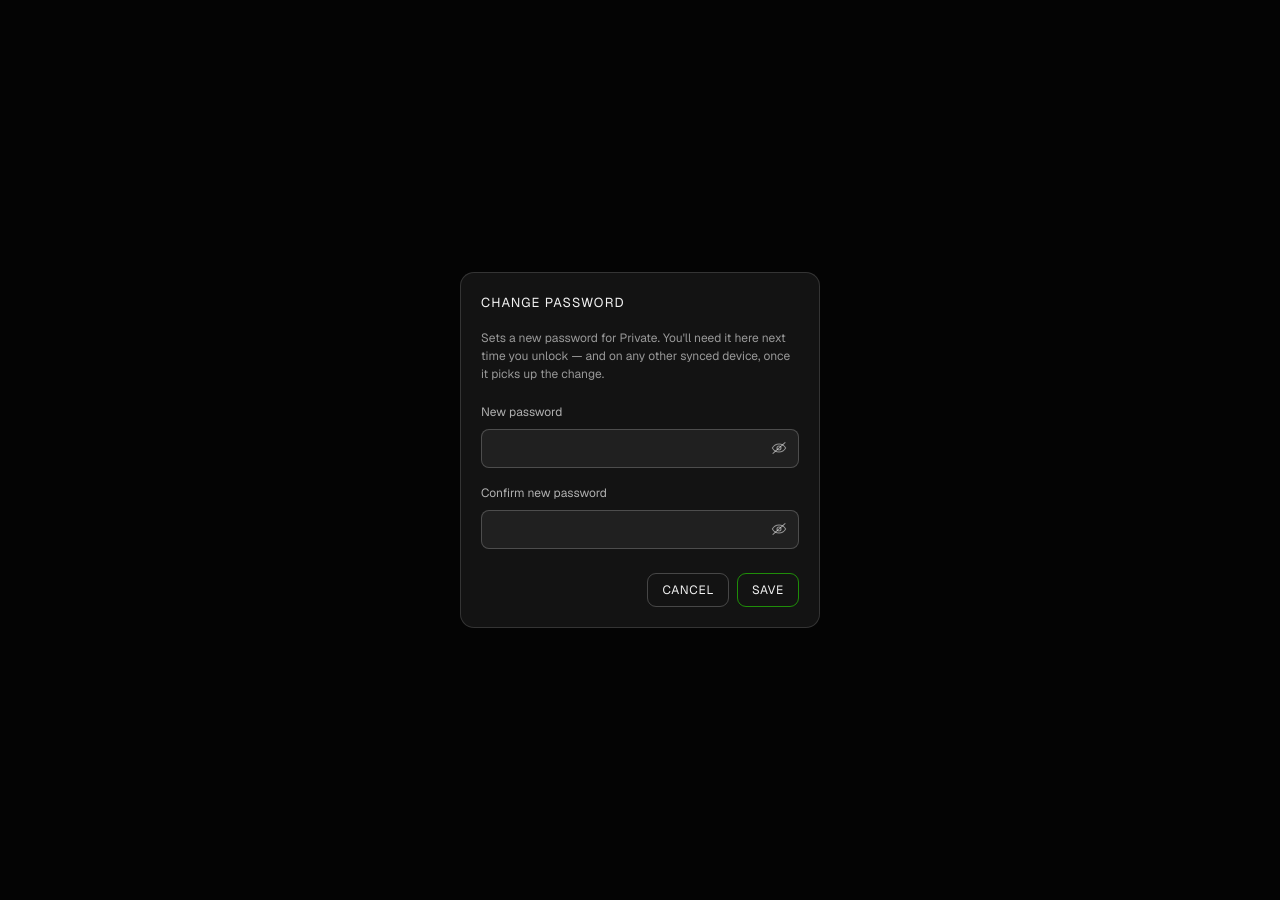
it: PrivateChangePasswordDialog › shows an error and does not submit when the password is too short
Type "abc" into the password field labelled "New password" at (640, 448), box top-left (481, 429), bottom-right (799, 468)
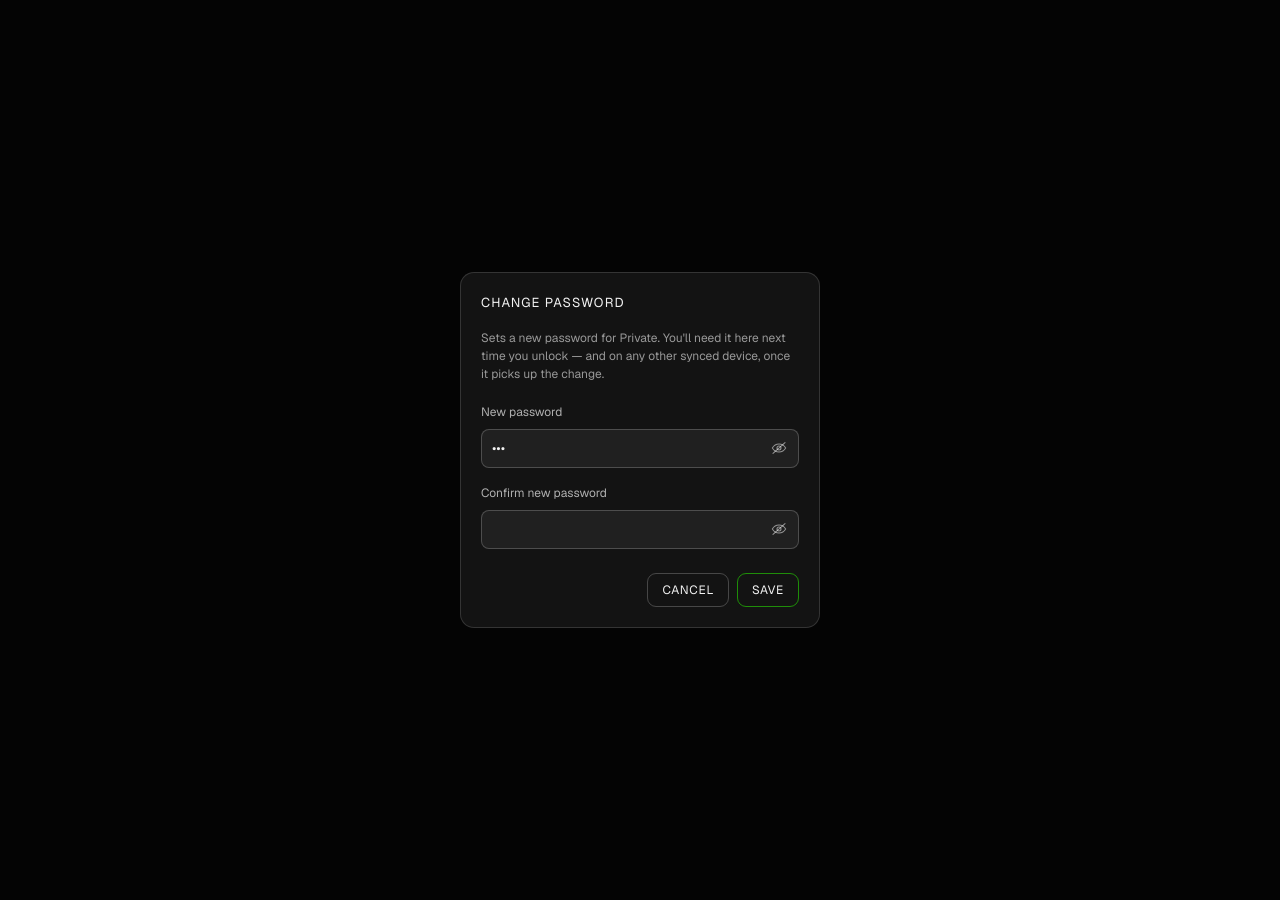
Type "abc" into the password field labelled "Confirm new password" at (640, 529), box top-left (481, 510), bottom-right (799, 549)
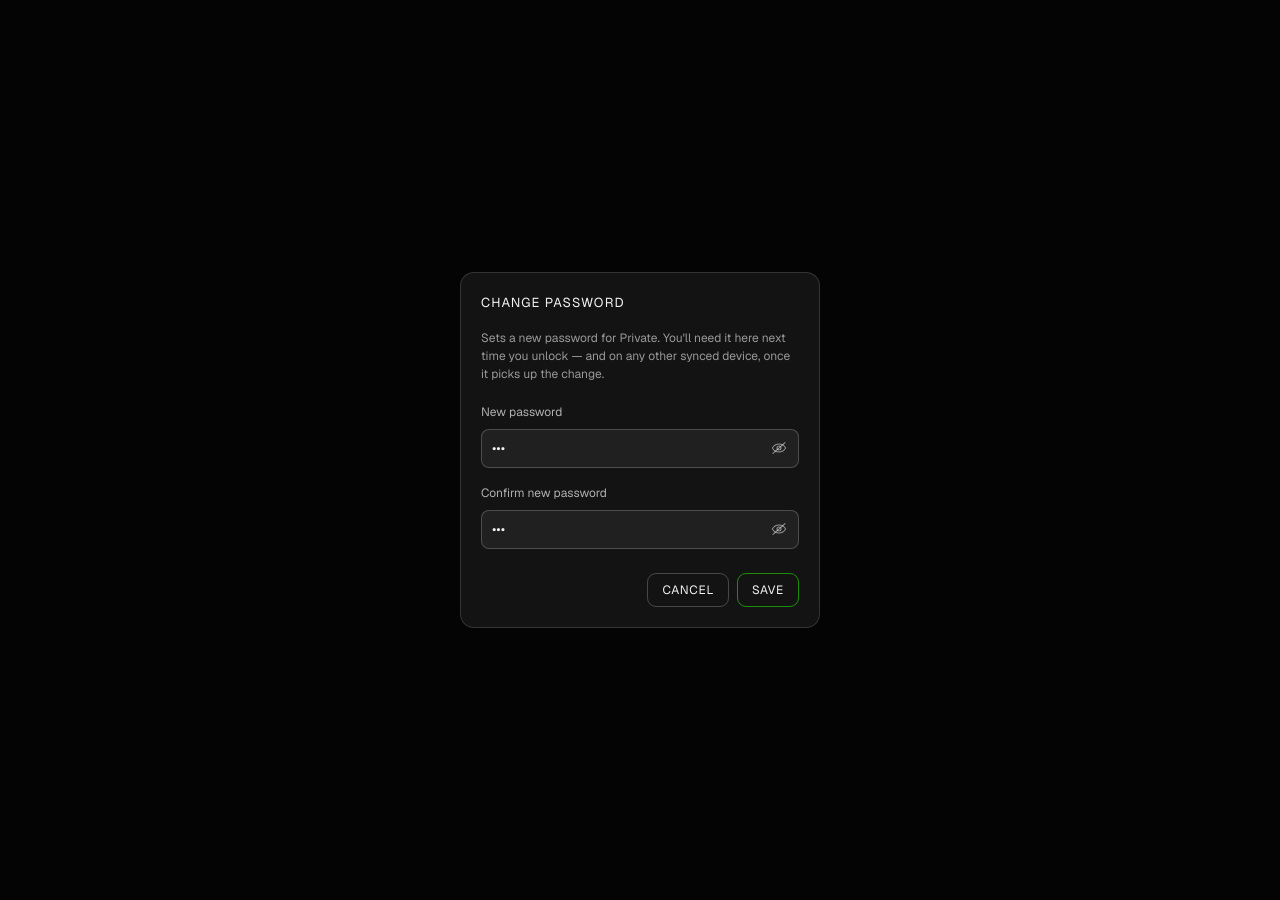
Click the button "SAVE" at (768, 590), box top-left (737, 573), bottom-right (799, 607)
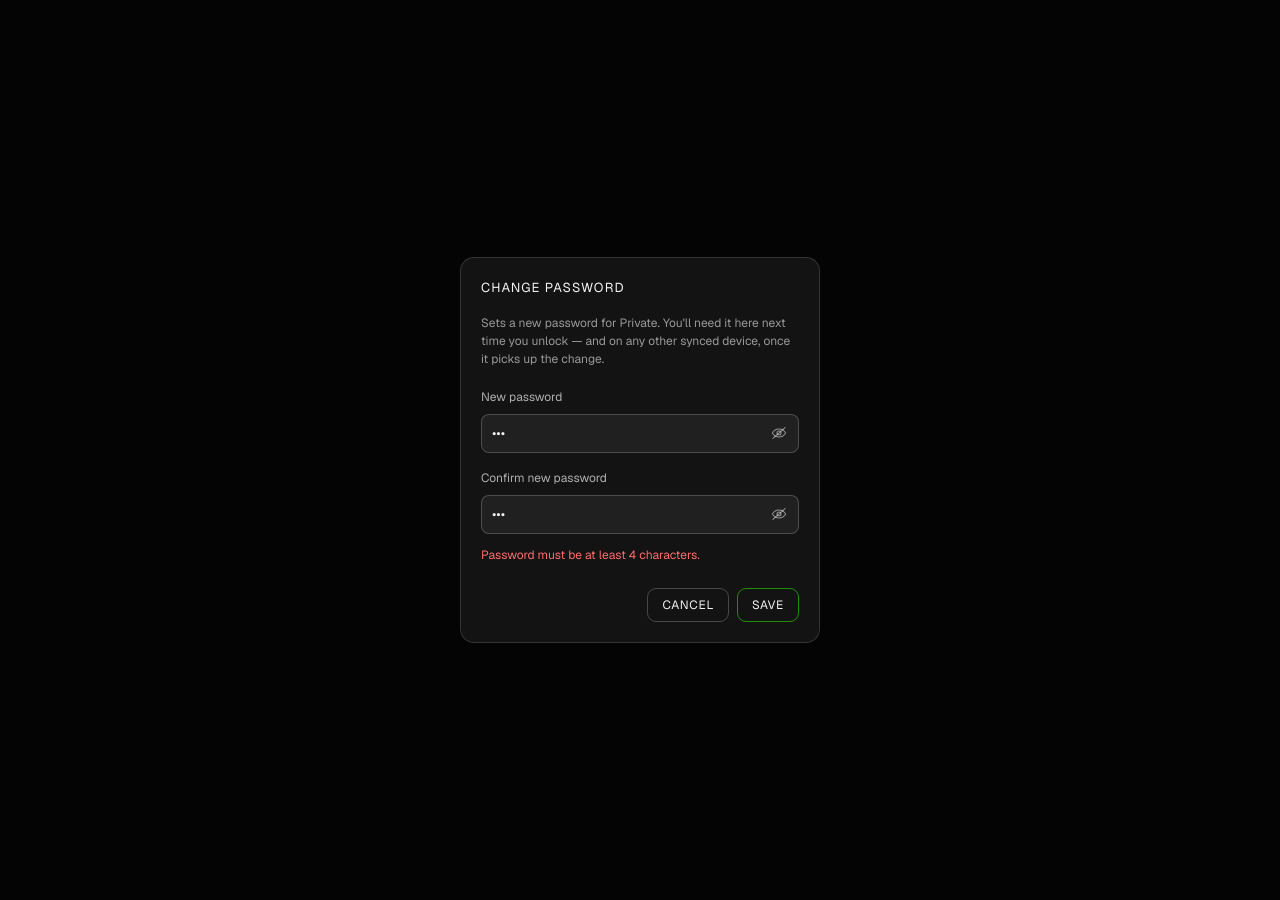
Expected: the text "Password must be at least 4 characters." is shown, top-left (481, 547), bottom-right (700, 563)
